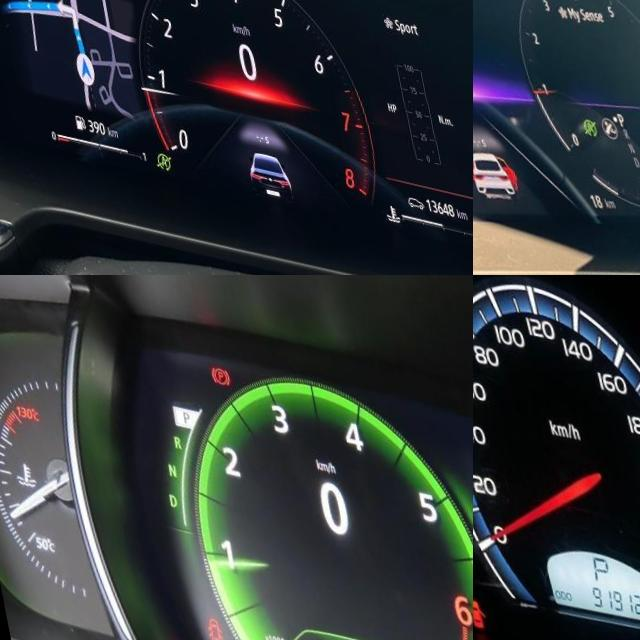Doors: (185, 605, 205, 636)
